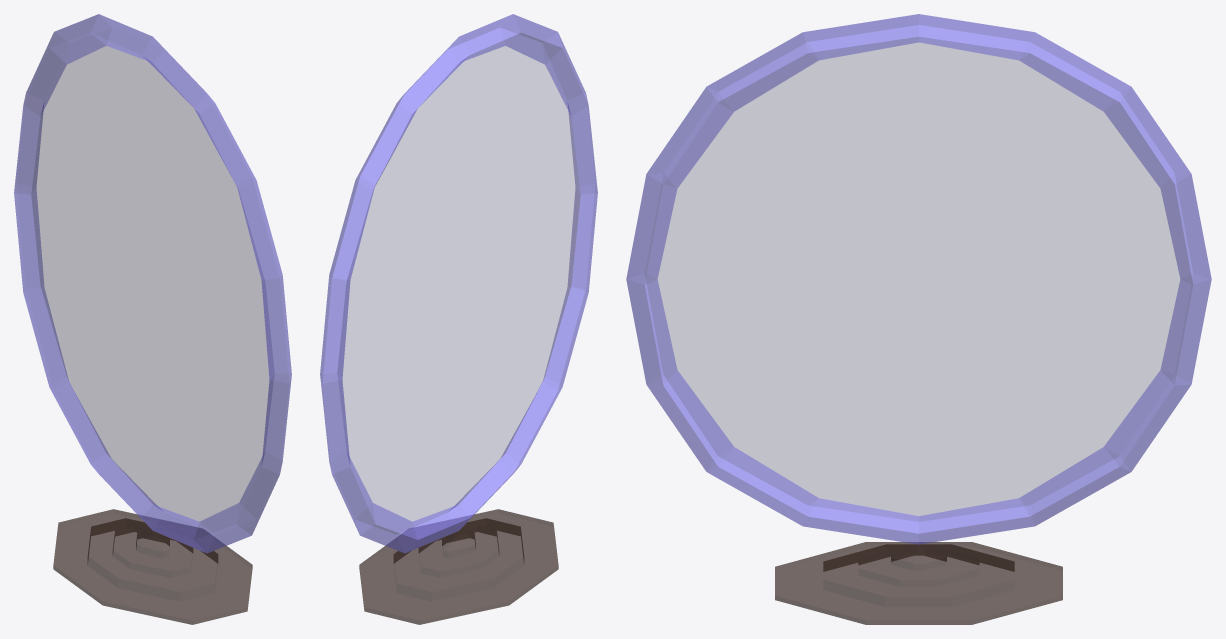
File: dreamcatcher.glb
The picture shows the model from 3 angles, left to right: view 1: azimuth 30°, elevation 25°; view 2: azimuth 150°, elevation 25°; view 3: azimuth 270°, elevation 25°; orthographic projection. The views are drawn at different scales.
Parts seen in each view (by area): view 1: DreamcatcherNet, DreamcatcherStand; view 2: DreamcatcherNet, DreamcatcherStand; view 3: DreamcatcherNet, DreamcatcherStand.
Boxes of the visible parts, x1,y1,x2,y2 form: DreamcatcherNet: (14, 14, 291, 553); DreamcatcherStand: (53, 509, 252, 624); DreamcatcherNet: (320, 14, 597, 553); DreamcatcherStand: (359, 509, 558, 624); DreamcatcherNet: (626, 14, 1211, 544); DreamcatcherStand: (775, 542, 1062, 624).
Size of the model in its own units: 0.5685 by 1.93 by 1.79.
Materials: 1 (1 with a texture image).
